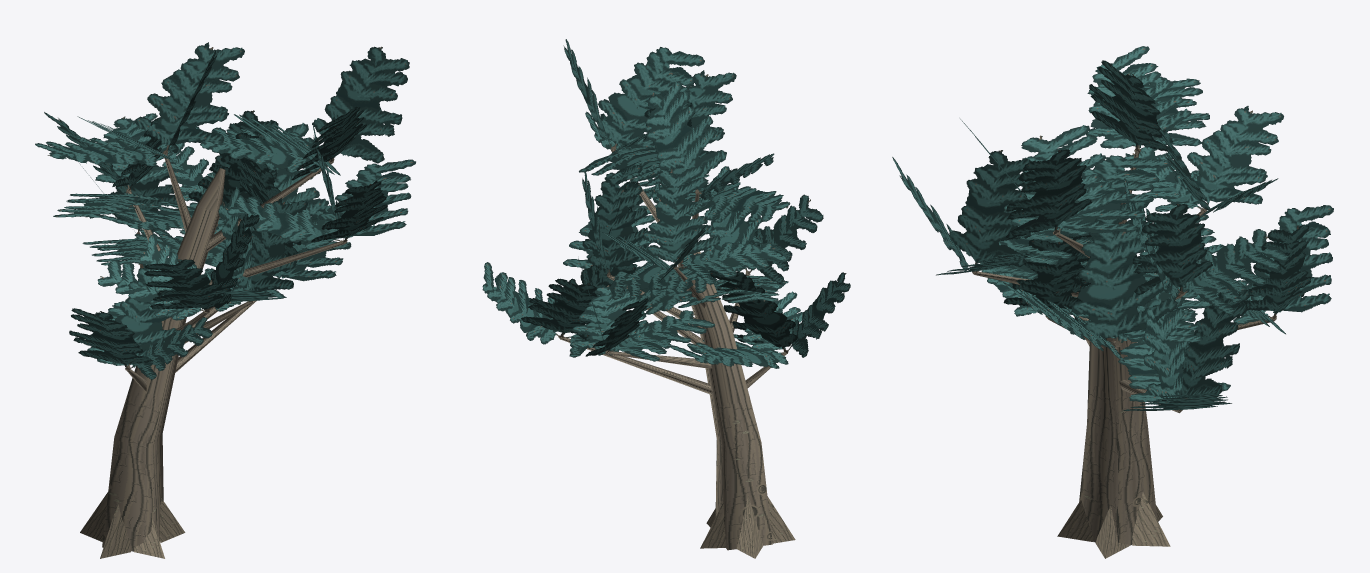
The model's file is coastal-wind-pine-mobile.glb.
3 renders of one model, left to right at view 1: azimuth 30°, elevation 25°; view 2: azimuth 150°, elevation 25°; view 3: azimuth 270°, elevation 25°, orthographic. The views are drawn at different scales.
Visible parts, largest first — view 1: Coastal wind pine mobile v3 runtime; view 2: Coastal wind pine mobile v3 runtime; view 3: Coastal wind pine mobile v3 runtime.
Part boxes in pixels (x1=…): Coastal wind pine mobile v3 runtime: x1=35, y1=42, x2=415, y2=558; Coastal wind pine mobile v3 runtime: x1=482, y1=39, x2=850, y2=558; Coastal wind pine mobile v3 runtime: x1=892, y1=46, x2=1333, y2=558.
Size of the model in its own units: 6.73 by 8.6 by 6.76.
1 material, 1 textured.
